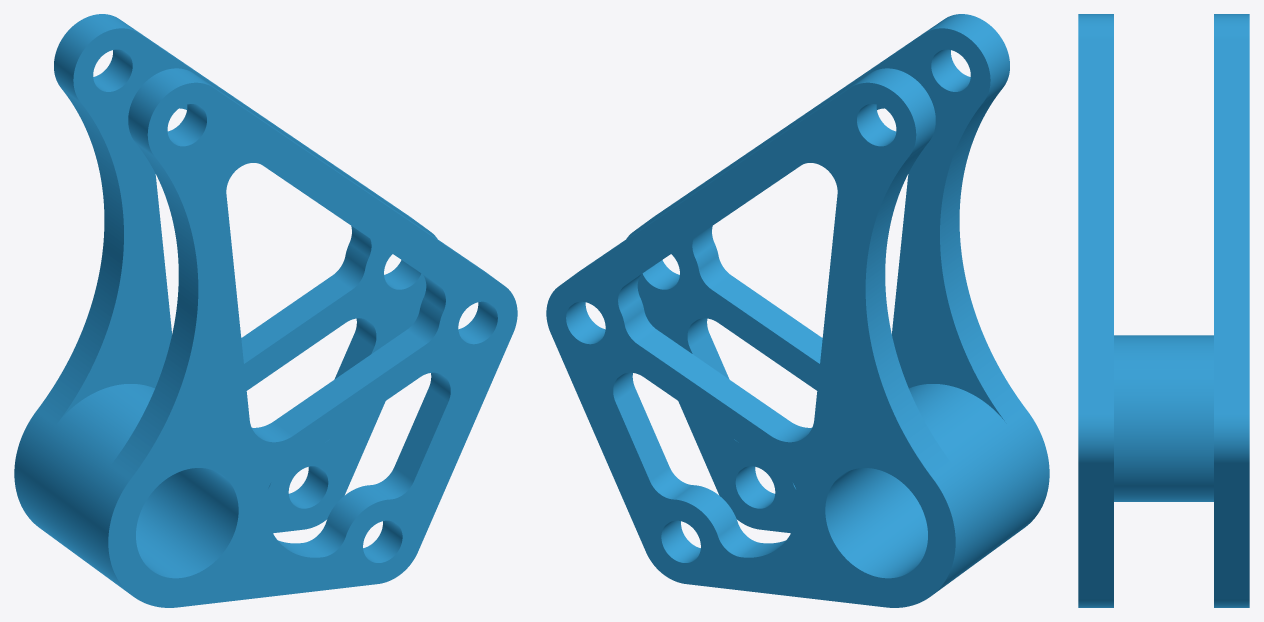
File: frontrocker_modal.glb
The picture shows the model from 3 angles, left to right: view 1: azimuth 30°, elevation 25°; view 2: azimuth 150°, elevation 25°; view 3: azimuth 270°, elevation 25°; orthographic projection. The views are drawn at different scales.
Visible parts, largest first — view 1: Node; view 2: Node; view 3: Node.
Boxes of the visible parts, bbox=[...] form: Node: bbox=[14, 14, 517, 607]; Node: bbox=[546, 14, 1049, 607]; Node: bbox=[1078, 14, 1249, 607].
Bounding box in the file's own units: 0.0658 × 0.0841 × 0.0262.
